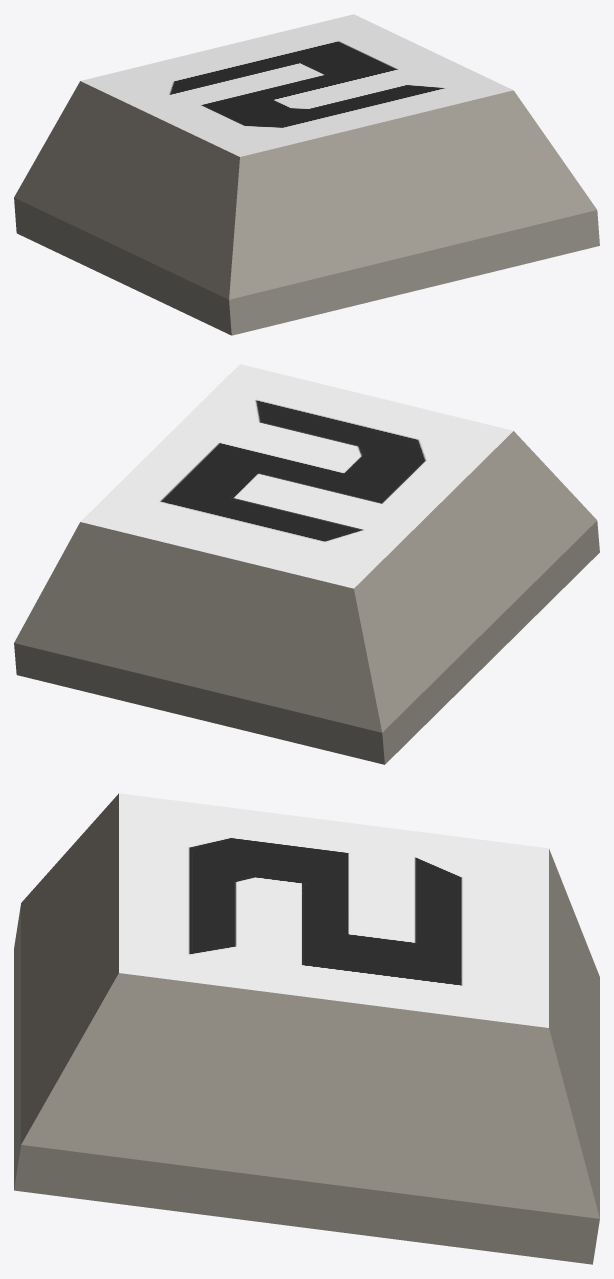
Rendered from key2.glb.
The picture shows the model from 3 angles, top to bottom: view 1: azimuth 30°, elevation 25°; view 2: azimuth 150°, elevation 25°; view 3: azimuth 270°, elevation 25°; orthographic projection. The views are drawn at different scales.
Visible parts, largest first — view 1: Cube.007; view 2: Cube.007; view 3: Cube.007.
Part boxes in pixels (x1,y1,x2,y2): Cube.007: (14,14,599,335); Cube.007: (14,364,599,764); Cube.007: (14,793,599,1264).
Size of the model in its own units: 0.1926 by 0.0968 by 0.1972.
Materials: 2 (1 with a texture image).
